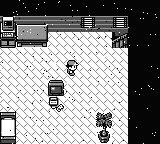leer: (47, 80, 65, 112), (0, 16, 15, 47)
main: (66, 60, 77, 76)
no-caminable: (0, 0, 159, 143), (14, 15, 128, 32), (17, 24, 48, 47), (95, 111, 112, 143), (0, 112, 16, 143), (0, 15, 3, 24)
puerta: (112, 32, 127, 48)
